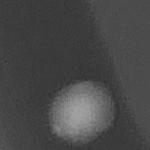colony: (39, 72, 130, 149)
